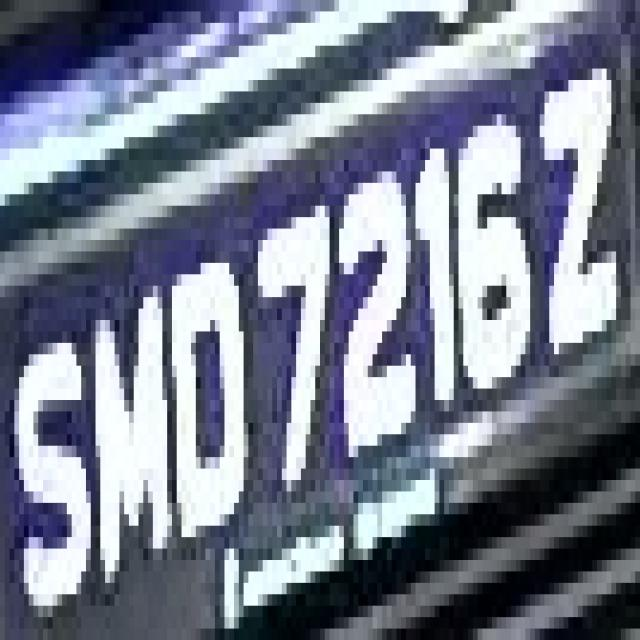1: (320, 172, 420, 457)
2: (325, 126, 420, 491)
6: (444, 103, 535, 446)
7: (243, 195, 344, 514)
D: (158, 240, 253, 560)
M: (86, 263, 167, 594)
S: (14, 286, 91, 606)
Z: (525, 46, 626, 388)
